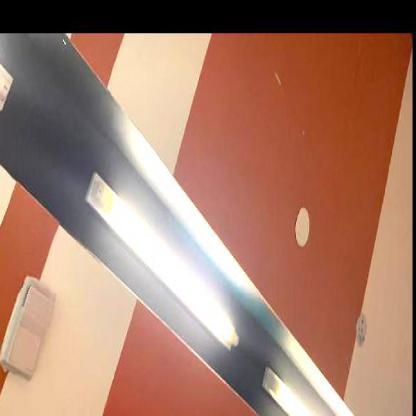light_on: (75, 158, 244, 353), (260, 354, 343, 415)
